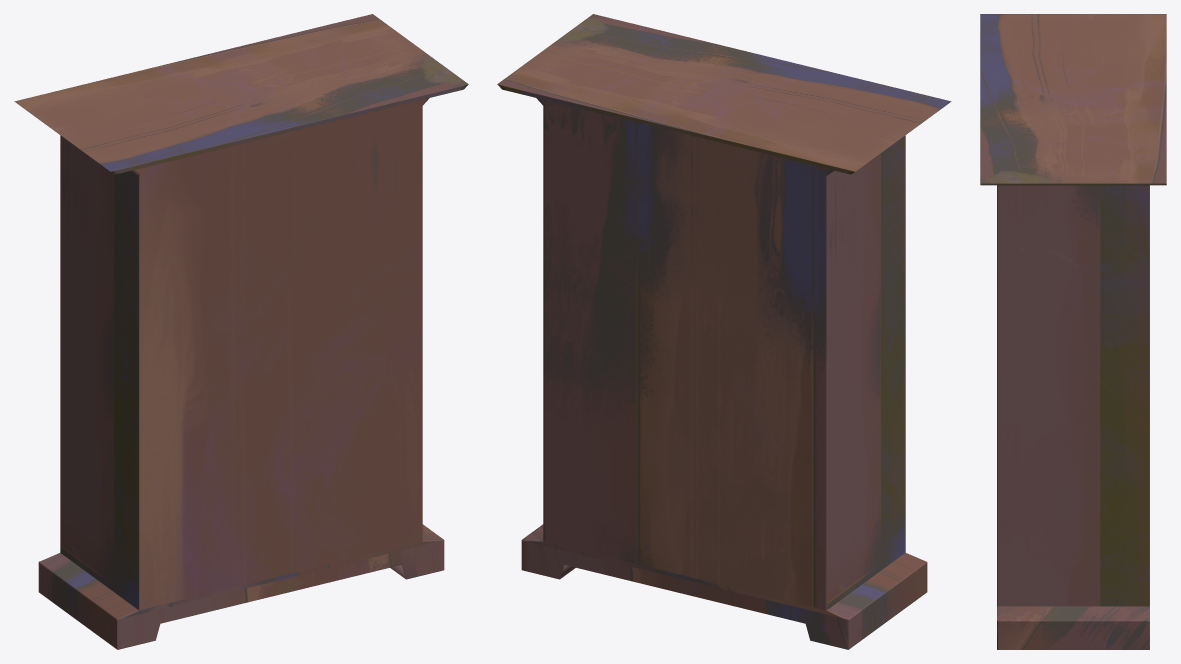
Rendered from ClosetBody.fbx.
The picture shows the model from 3 angles, left to right: view 1: azimuth 30°, elevation 25°; view 2: azimuth 150°, elevation 25°; view 3: azimuth 270°, elevation 25°; orthographic projection. The views are drawn at different scales.
Parts seen in each view (by area): view 1: Cabinet; view 2: Cabinet; view 3: Cabinet.
Boxes of the visible parts, x1=… form: Cabinet: x1=14, y1=14, x2=468, y2=649; Cabinet: x1=497, y1=14, x2=951, y2=649; Cabinet: x1=980, y1=14, x2=1166, y2=649.
Bounding box in the file's own units: 169 × 221 × 78.58.
